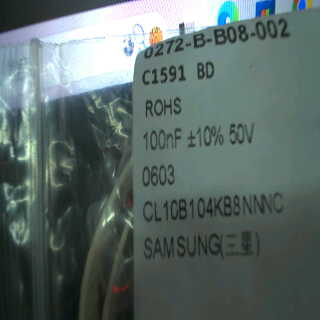100nF: (141, 124, 182, 158)
